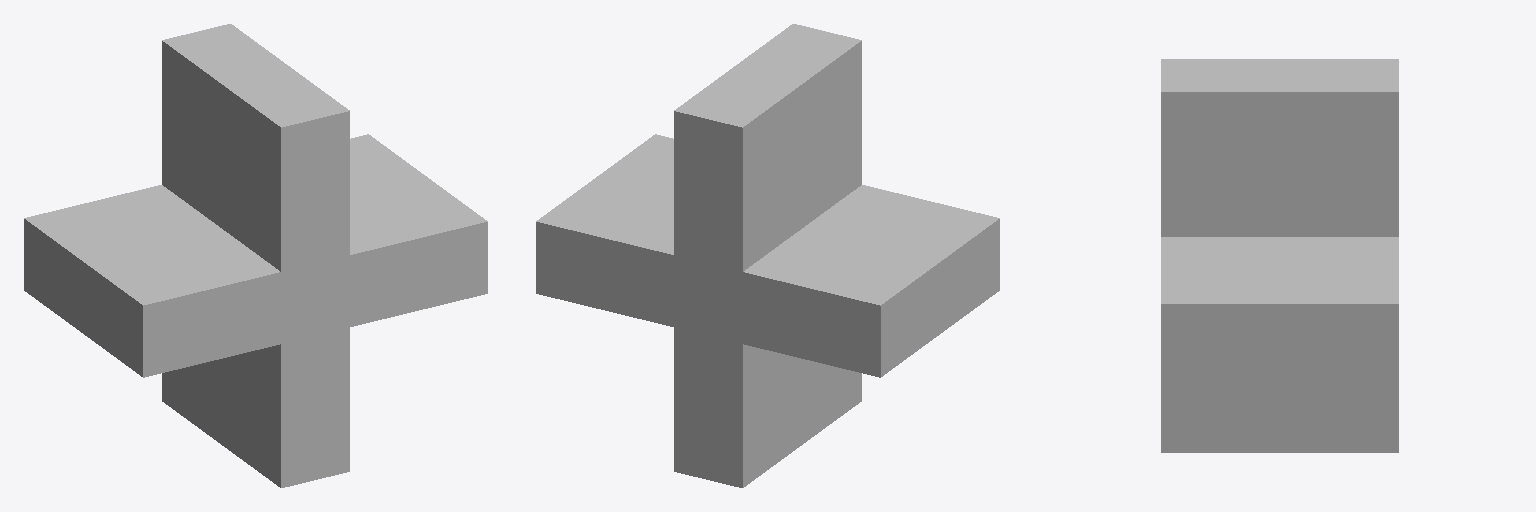
File: plus3.obj
3 renders of one model, left to right at view 1: azimuth 30°, elevation 25°; view 2: azimuth 150°, elevation 25°; view 3: azimuth 270°, elevation 25°, orthographic.
Size of the model in its own units: 10 by 10 by 6.